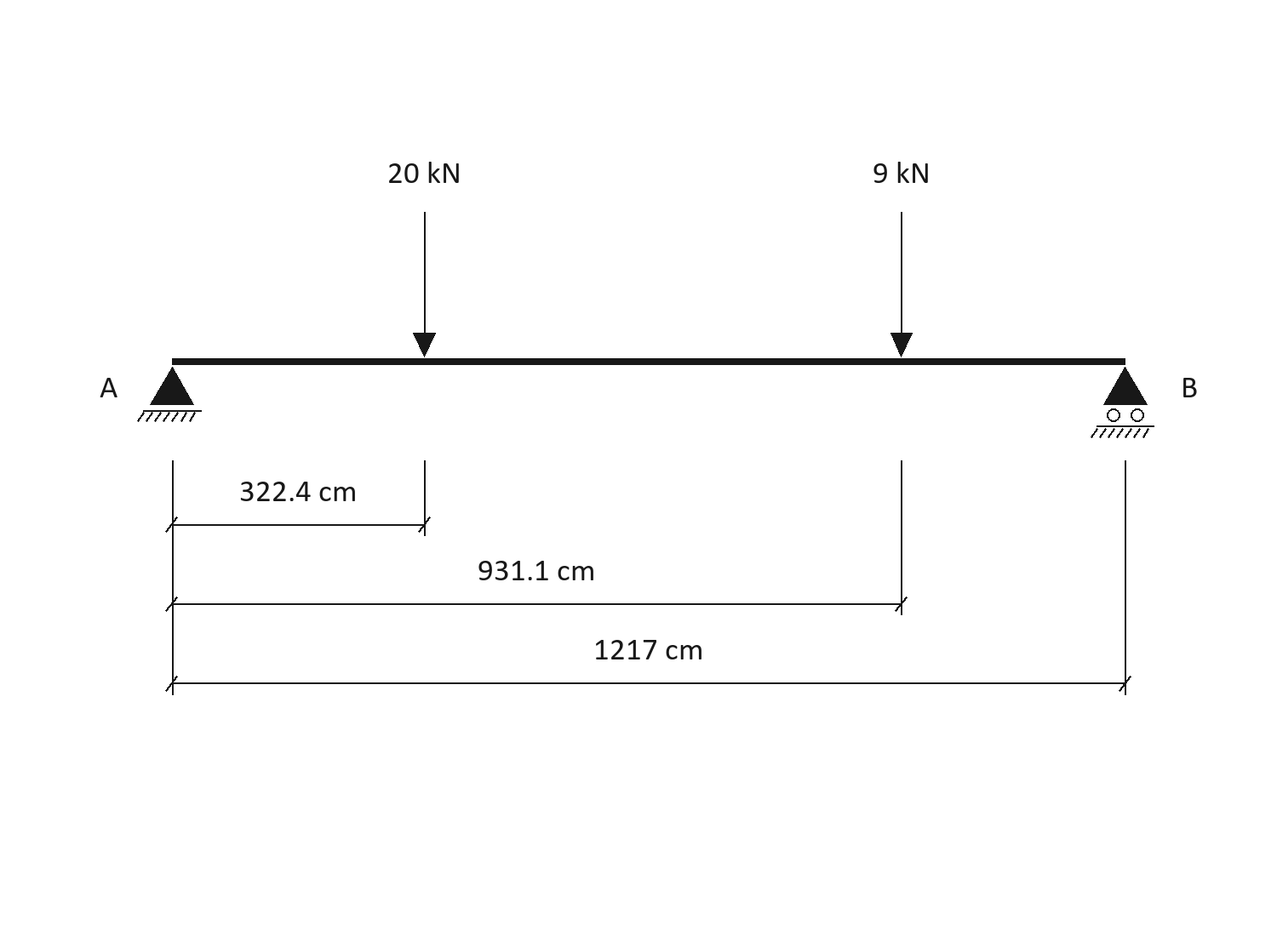pin_support: (137, 367, 202, 422)
point_load: (413, 212, 436, 357), (890, 212, 913, 357)
roller_support: (1091, 367, 1154, 438)
